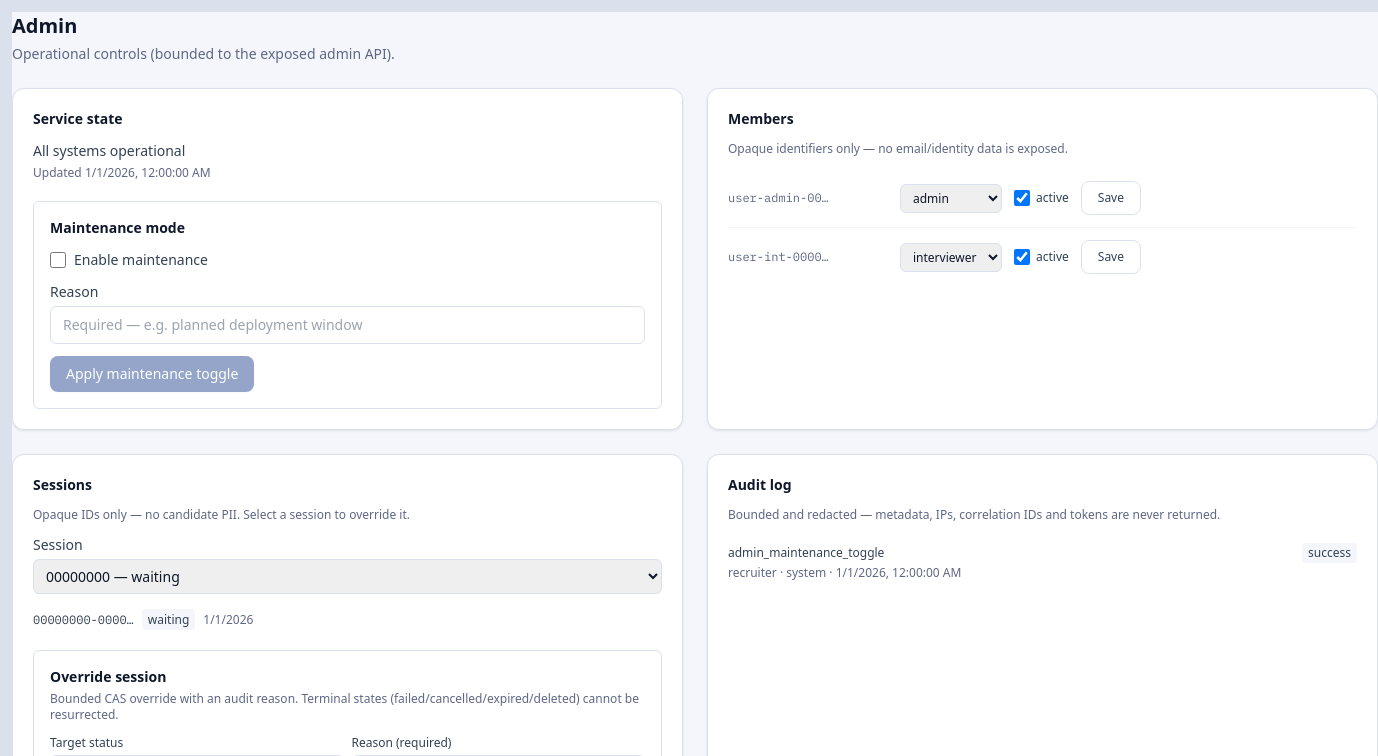
Test: AdminDashboardPage › toggles maintenance with a required bounded reason
This screenshot has width=1378, height=756.
Expected: the heading "Service state" is shown, [33,109,122,128]
Click the checkbox labelled "Enable maintenance": (58, 260) [50,252,66,268]
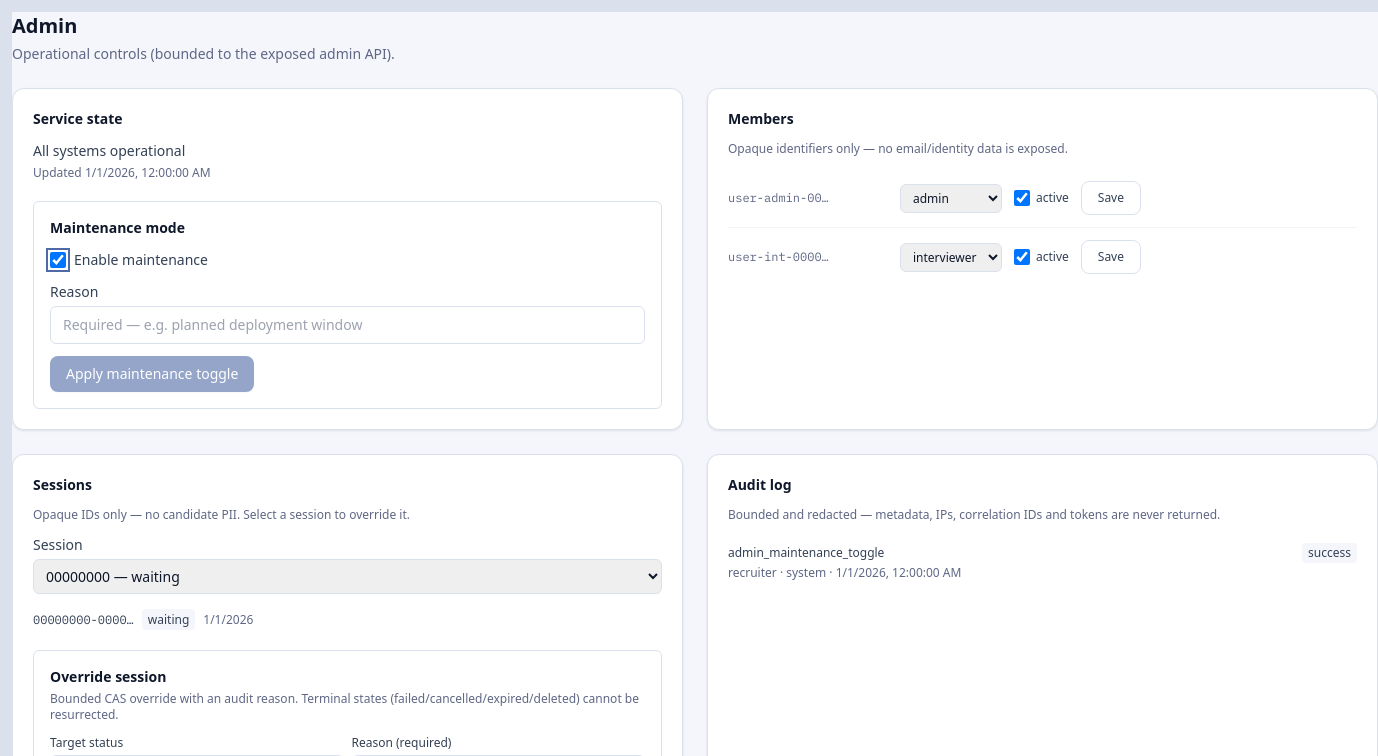
In the field labelled "Reason": (348, 325) [50,306,645,344], type "Deployment window"
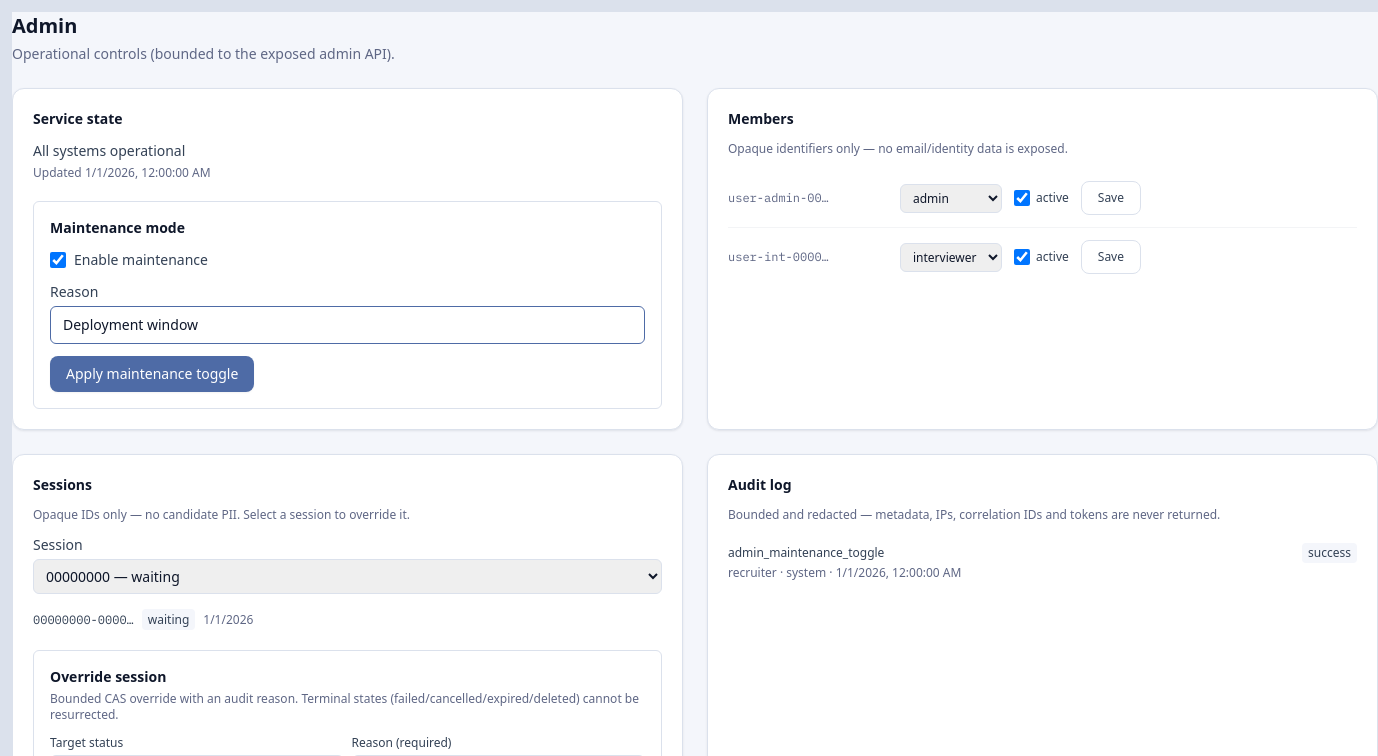
Click the button "Apply maintenance toggle": (152, 374) [50,356,254,392]
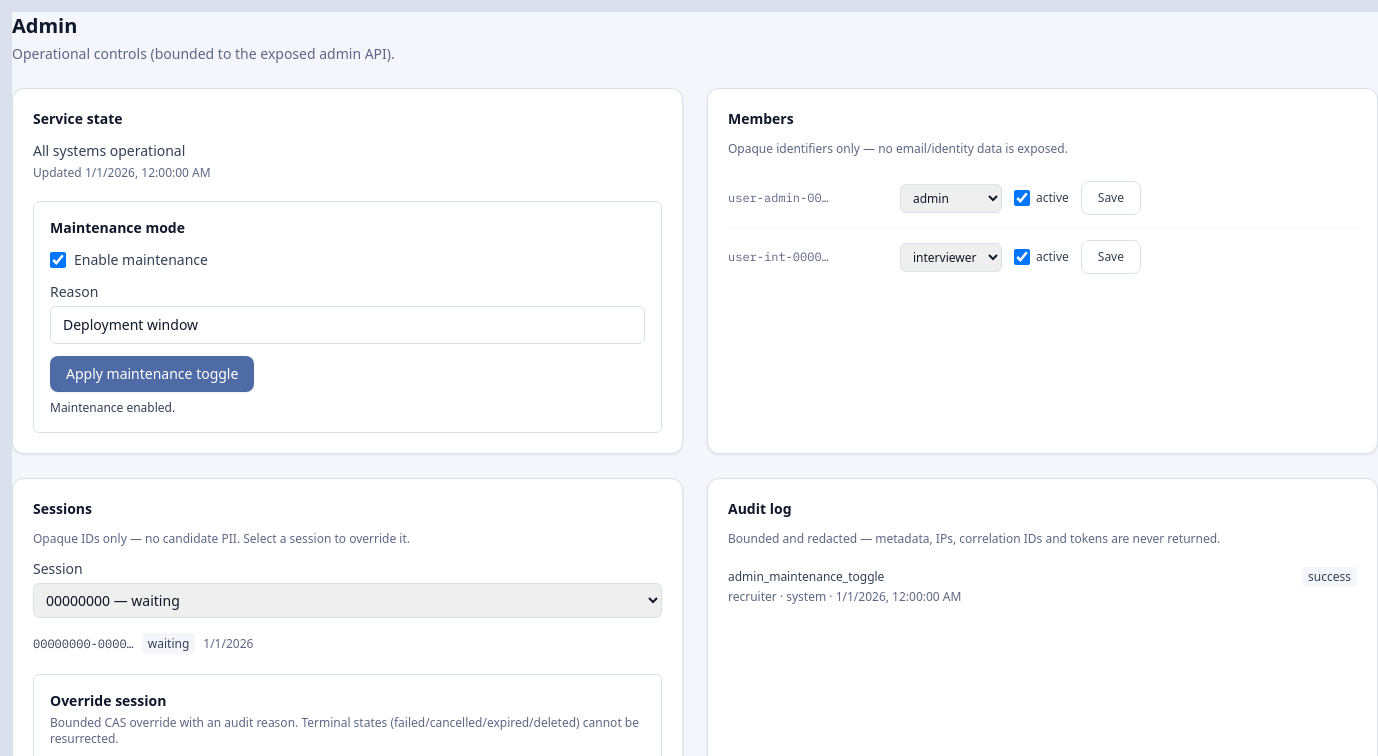
Expected: the text "Maintenance enabled." is shown, [50,399,175,416]
